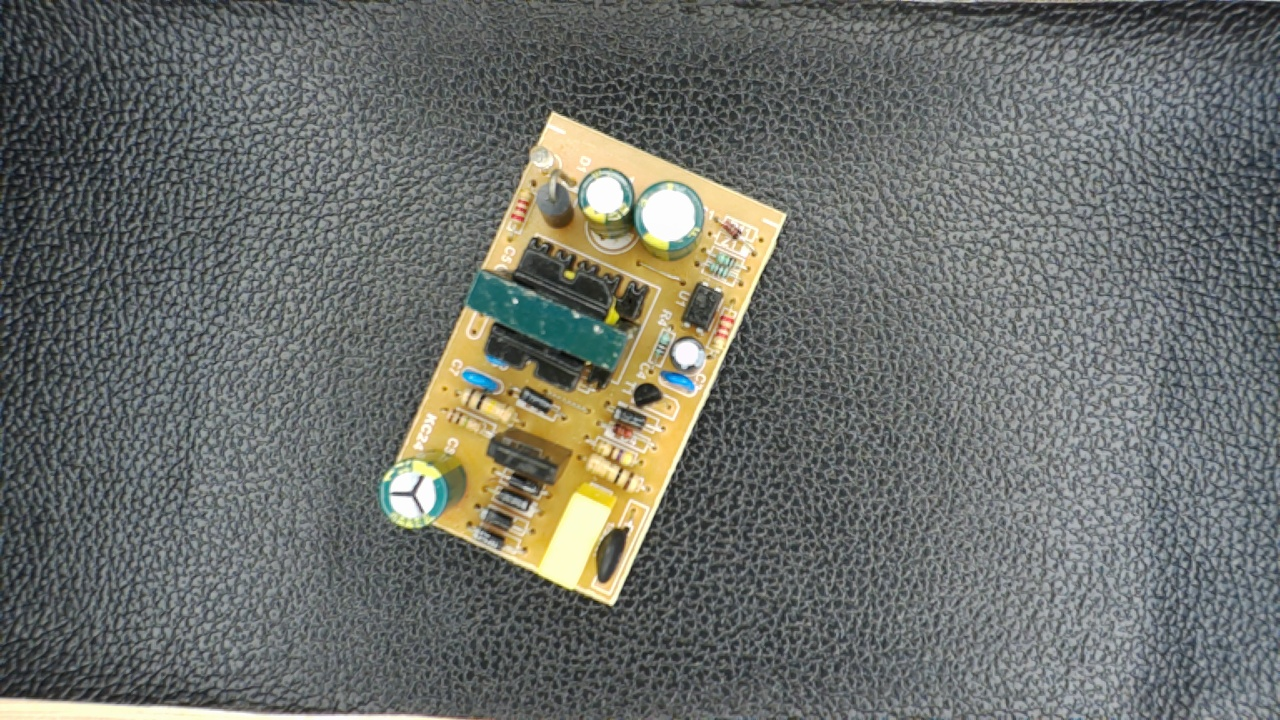fuse: (590, 513, 635, 590)
hv_capacitor: (378, 449, 468, 528)
optocoupler: (678, 278, 723, 338)
